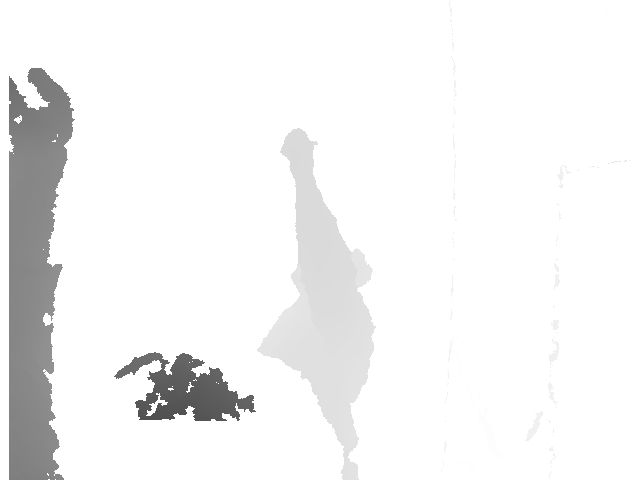hand: (7, 65, 73, 216), (280, 129, 316, 183)
head: (288, 246, 374, 302)
person: (9, 65, 257, 480), (256, 129, 375, 480)
